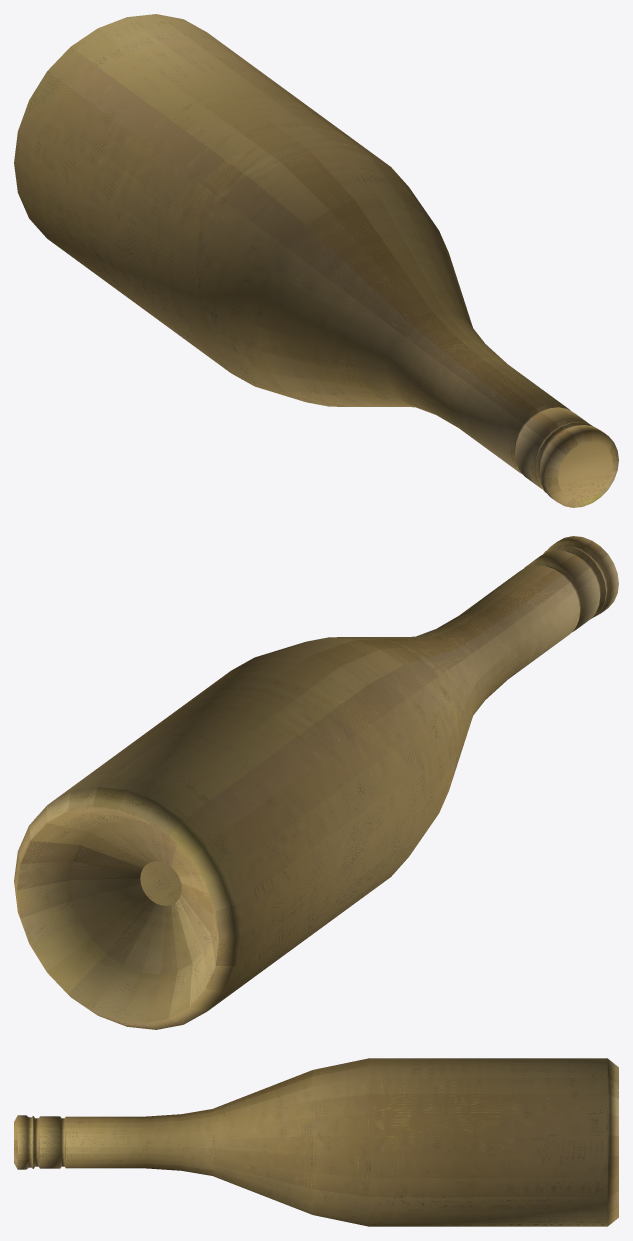
The model's file is model_align.obj.
3 views of the same model, one above another, from view 1: azimuth 30°, elevation 25°; view 2: azimuth 150°, elevation 25°; view 3: azimuth 270°, elevation 25° (orthographic). The views are drawn at different scales.
Parts seen in each view (by area): view 1: mesh1_mesh1-geometry; view 2: mesh1_mesh1-geometry; view 3: mesh1_mesh1-geometry.
Boxes of the visible parts, x1,y1,x2,y2 form: mesh1_mesh1-geometry: (14,14,618,507); mesh1_mesh1-geometry: (14,536,618,1029); mesh1_mesh1-geometry: (14,1058,618,1226).
Size of the model in its own units: 0.0756 by 0.0756 by 0.2706.
